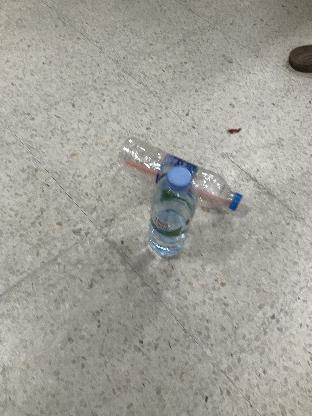Plastic Bottle: (147, 166, 197, 262)
